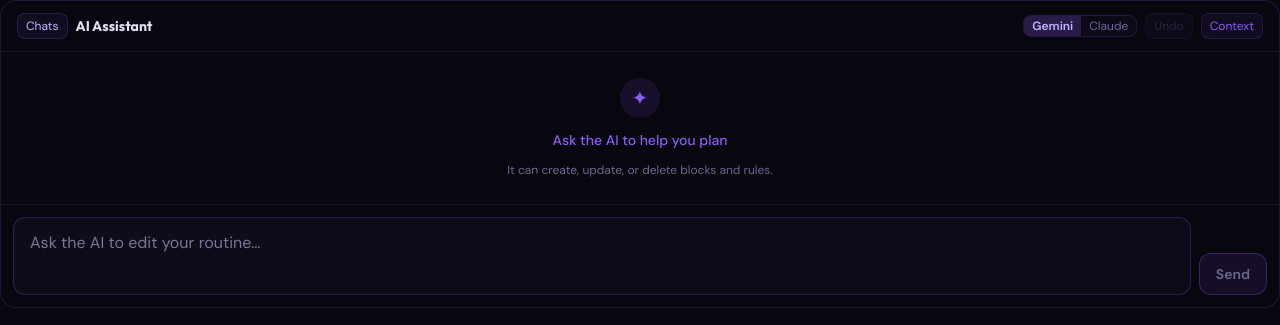
Test: ChatPanel › user types a message and it appears as a user bubble
This screenshot has width=1280, height=325.
Type "Add a morning run block" into the text box named "message input" at (602, 256), box [13, 217, 1191, 295]
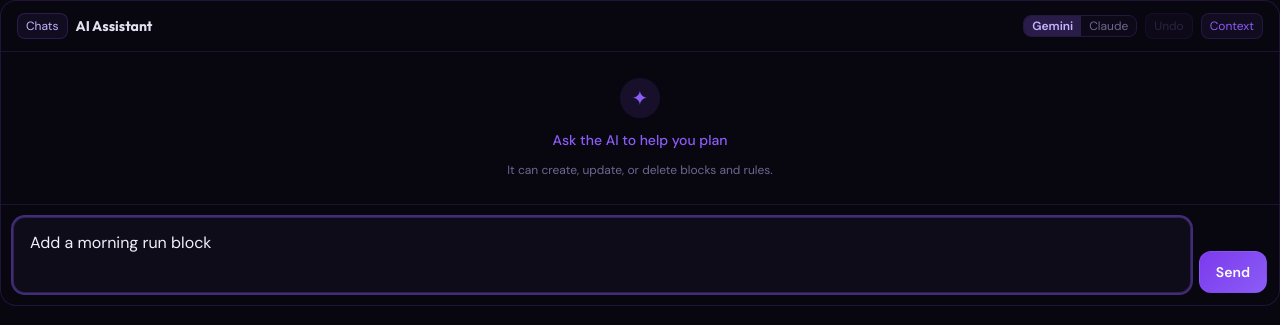
Press Enter
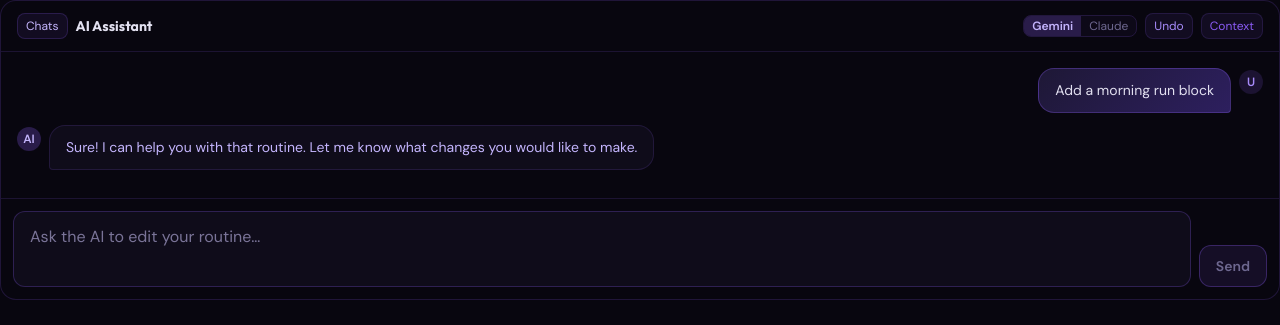
Now the text "Add a morning run block" is shown, box [1038, 68, 1231, 113]
